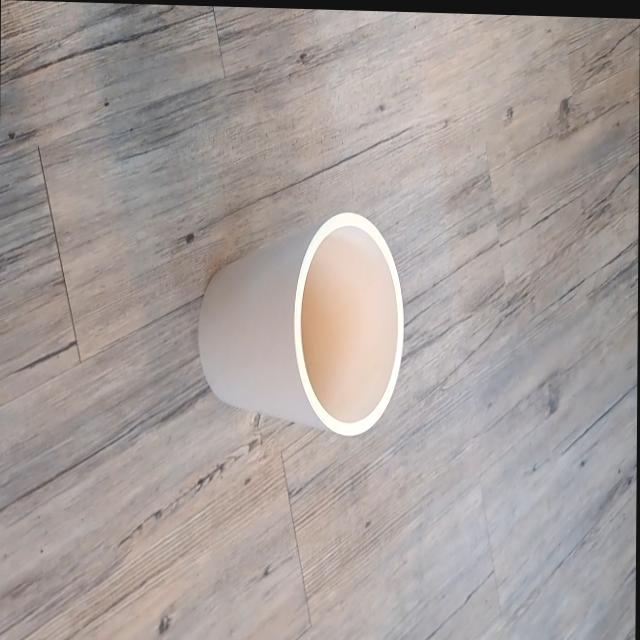CORAL: (166, 178, 420, 469)
